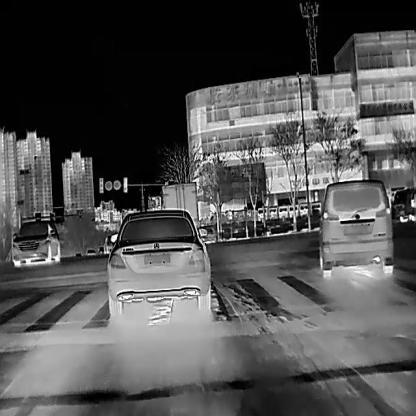car: (105, 209, 211, 314), (318, 178, 393, 278), (11, 220, 61, 267), (159, 179, 198, 235), (392, 186, 416, 223)
